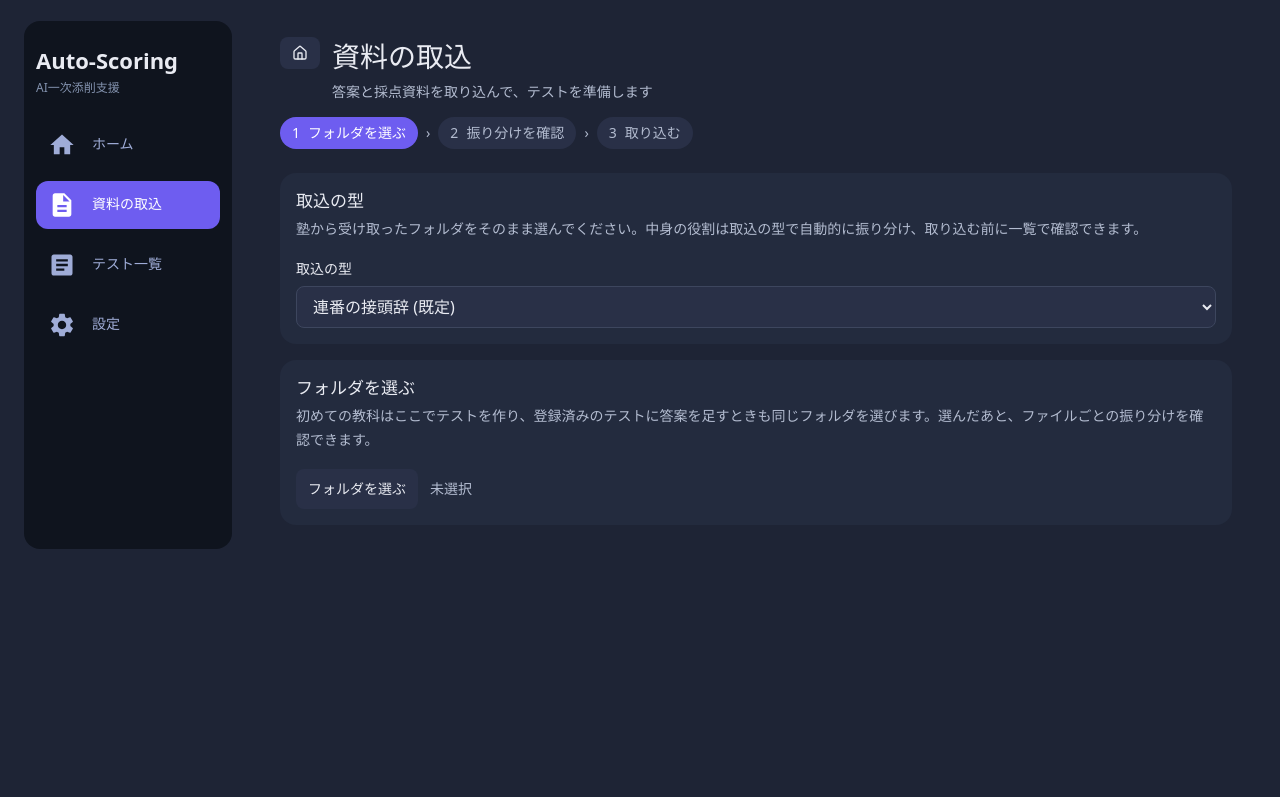
Test: Issue #384 (3): the intake selection survives leaving the screen › a fully successful import clears the session
Expected: the dropdown with test id "intake-template-picker" is shown, [296, 286, 1216, 328]
Click the button with test id "intake-choose-folder".
click(357, 489)  # box [296, 469, 418, 509]
(page scrolled)
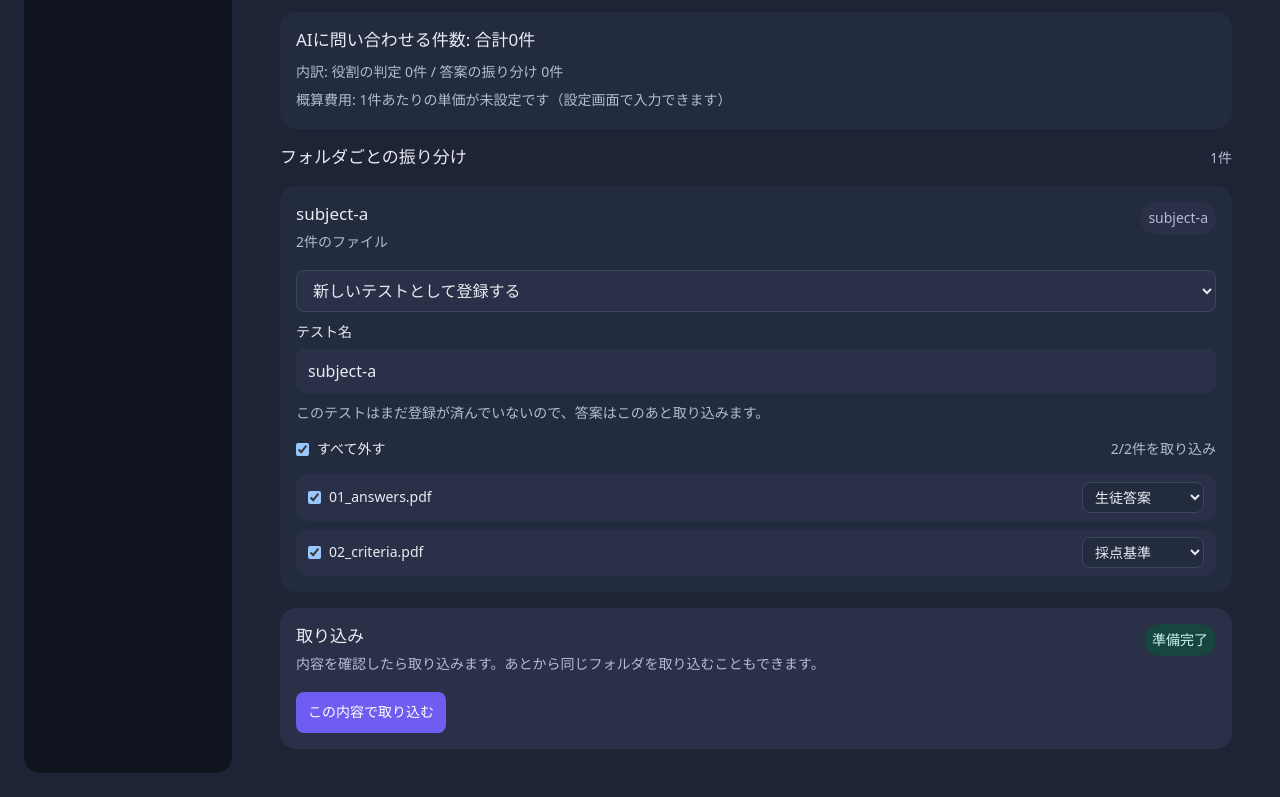
Click the button with test id "intake-import".
click(371, 712)  # box [296, 692, 446, 733]
(page scrolled)
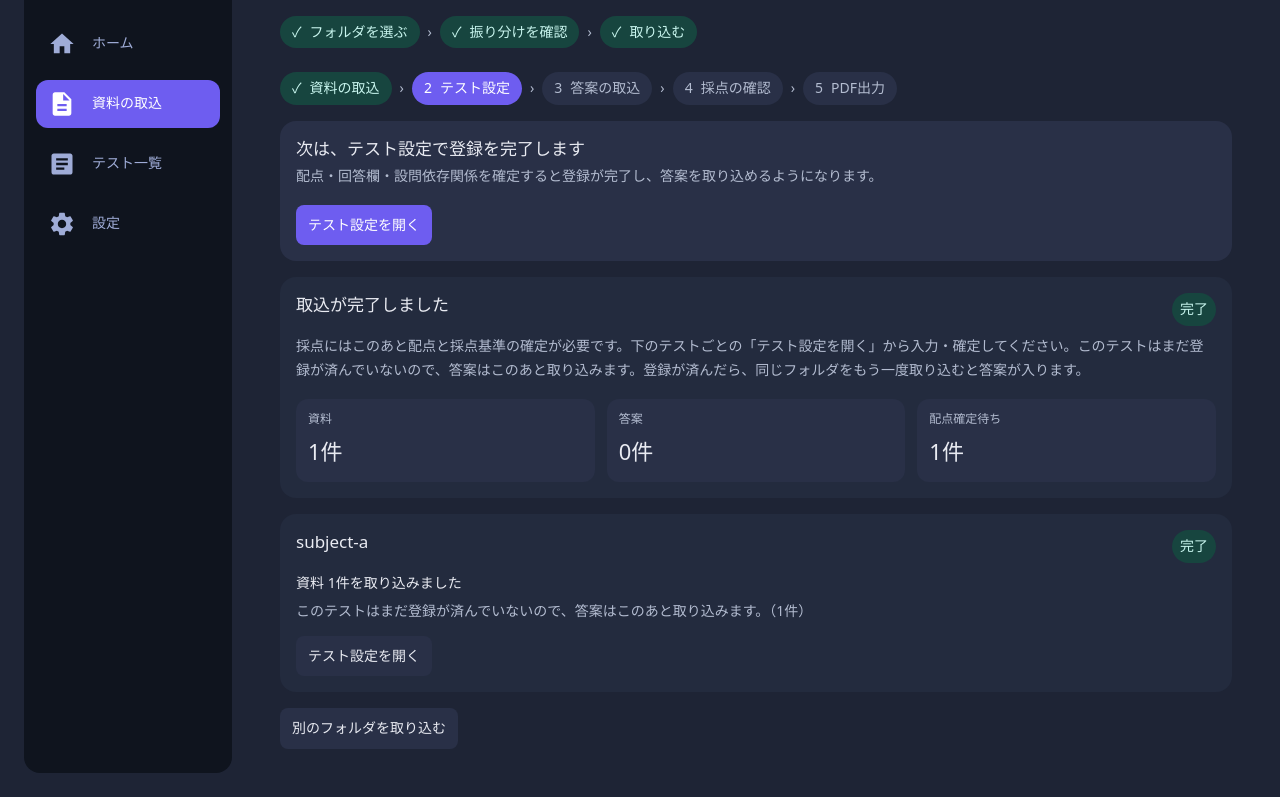
Expected: the heading "取込が完了しました" is shown, [296, 294, 449, 316]
Click the button with test id "sidebar-nav-tests".
click(128, 164)  # box [36, 140, 220, 188]
(page scrolled)
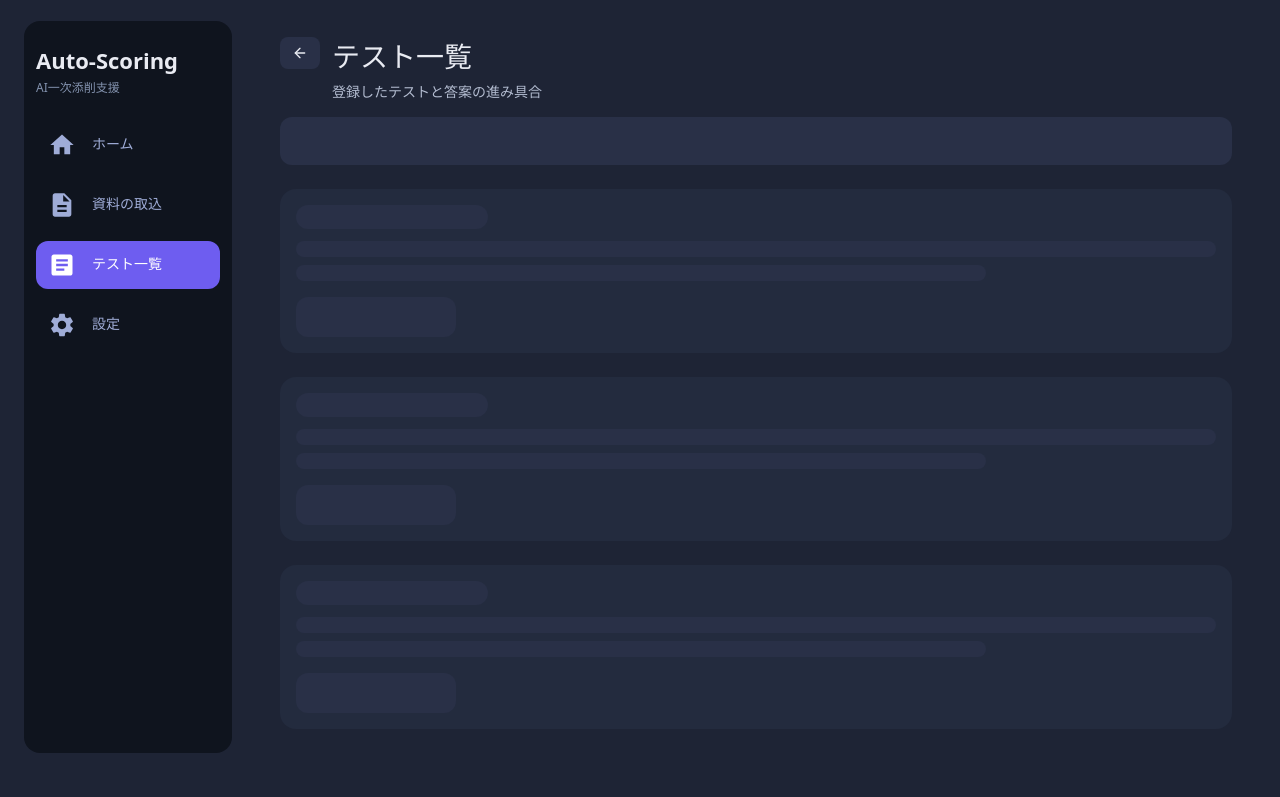
Expected: the heading "テスト一覧" is shown, [332, 37, 472, 75]
Click the button with test id "sidebar-nav-intake".
click(128, 205)  # box [36, 181, 220, 229]
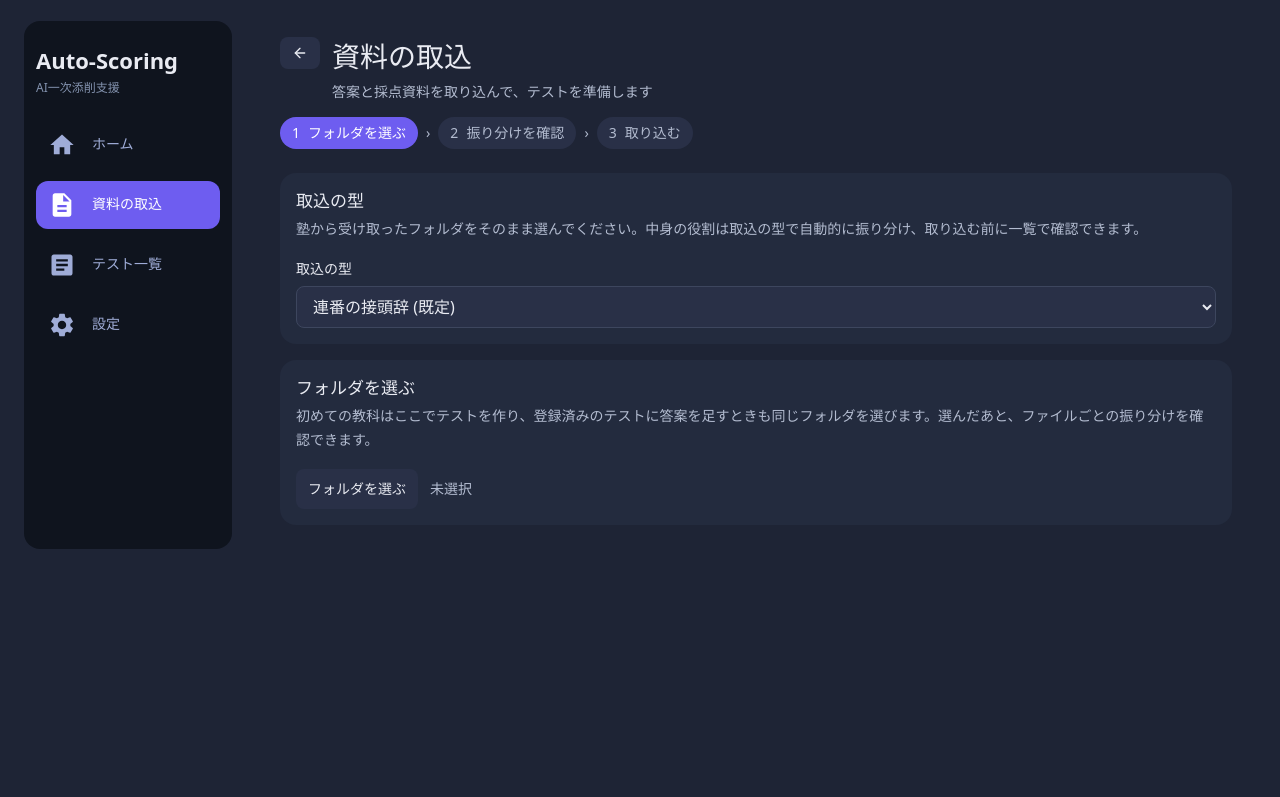
Expected: the button with test id "intake-choose-folder" is shown, [296, 469, 418, 509]
